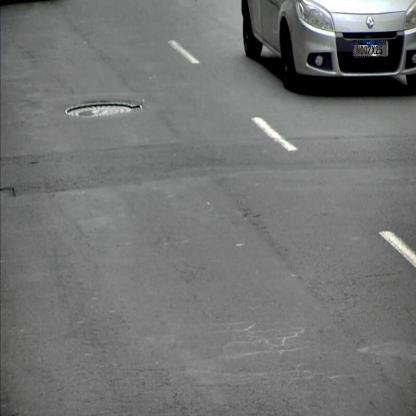PlacaM: (353, 40, 386, 57)
